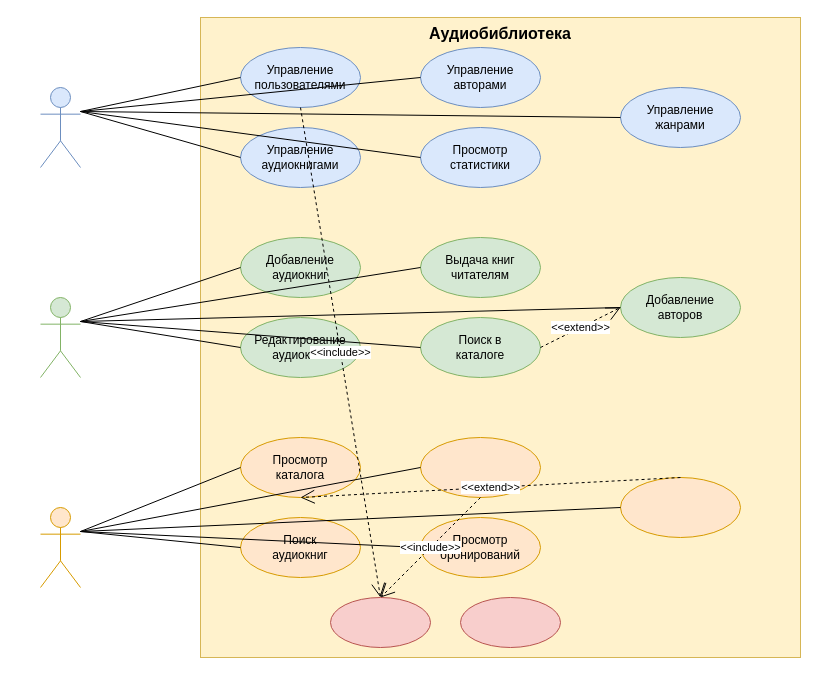
This 818x675 diagram has some shape labels left out. The shapes that lost their labels are listed below. From the top down, each one's centre as x and y in pixels, then its label:
At [60,127]: "Администратор".
At [60,337]: "Библиотекарь".
At [480,467]: "Бронирование аудиокниг".
At [680,507]: "Прослушивание образцов".
At [60,547]: "Читатель".
At [380,622]: "Авторизация".
At [510,622]: "Выход".
